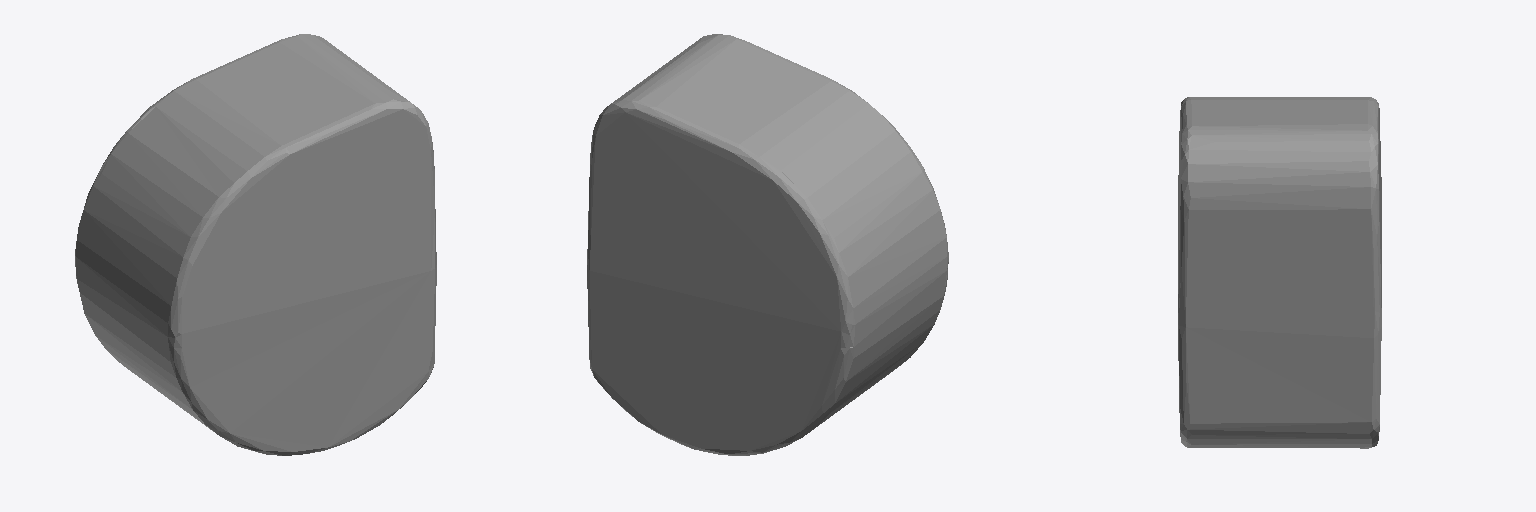
File: l_wrist_flex_link.OBJ
The picture shows the model from 3 angles: view 1: azimuth 30°, elevation 25°; view 2: azimuth 150°, elevation 25°; view 3: azimuth 270°, elevation 25°; orthographic projection.
Visible parts, largest first — view 1: /ambf/env/pr2/l_wrist_flex_link_/ambf/env/pr2/l_wrist_flex_link_; view 2: /ambf/env/pr2/l_wrist_flex_link_/ambf/env/pr2/l_wrist_flex_link_; view 3: /ambf/env/pr2/l_wrist_flex_link_/ambf/env/pr2/l_wrist_flex_link_.
Boxes of the visible parts, x1=… form: /ambf/env/pr2/l_wrist_flex_link_/ambf/env/pr2/l_wrist_flex_link_: x1=75, y1=34, x2=436, y2=455; /ambf/env/pr2/l_wrist_flex_link_/ambf/env/pr2/l_wrist_flex_link_: x1=587, y1=34, x2=948, y2=455; /ambf/env/pr2/l_wrist_flex_link_/ambf/env/pr2/l_wrist_flex_link_: x1=1178, y1=97, x2=1381, y2=448.
Size of the model in its own units: 0.0656 by 0.0782 by 0.0434.